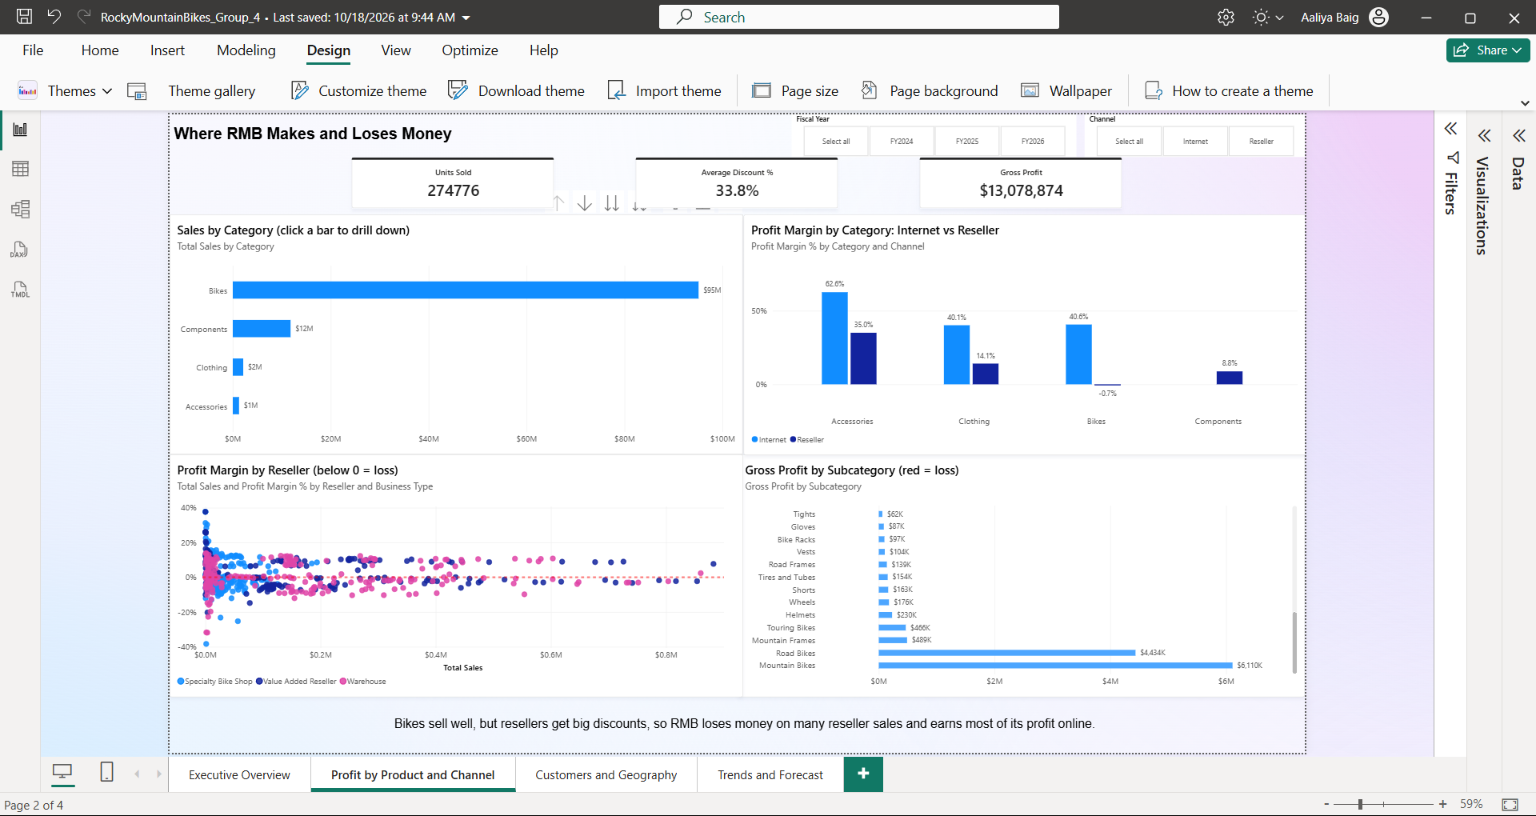

Layout of this report page (visuals, bound fields, positions):
{"tool":"powerbi","page":{"name":"Profit by Product and Channel","canvas":[1920,1080],"ordinal":1},"visuals":[{"type":"slicer","fields":{"Values":["Dates.Fiscal Year"]},"box":[1051.4,0,481.4,72.4],"z":0},{"type":"slicer","fields":{"Values":["Sales.Channel"]},"box":[1547.2,0,372.8,72.4],"z":1000},{"type":"clusteredBarChart","title":"Sales by Category (click a bar to drill down)","fields":{"Category":["Products.Product Hierarchy.Category","Products.Product Hierarchy.Subcategory","Products.Product Hierarchy.Model","Products.Product Hierarchy.Product"],"Y":["_Measures.Total Sales"]},"box":[0,168.3,970,407.2],"z":2000},{"type":"clusteredBarChart","title":"Gross Profit by Subcategory (red = loss)","fields":{"Category":["Products.Subcategory"],"Y":["_Measures.Gross Profit"]},"box":[960.9,575.5,959.1,410.8],"z":3000},{"type":"cardVisual","fields":{"Data":["_Measures.Units Sold"]},"box":[307.6,72.4,342,86.9],"z":4000},{"type":"cardVisual","fields":{"Data":["_Measures.Average Discount %"]},"box":[787.2,72.4,342,86.9],"z":5000},{"type":"cardVisual","fields":{"Data":["_Measures.Gross Profit"]},"box":[1268.6,72.4,342,86.9],"z":6000},{"type":"textbox","box":[211.7,1000.7,1521.9,65.1],"z":7000},{"type":"textbox","box":[0,0,514.6,59.7],"z":8000},{"type":"clusteredColumnChart","title":"Profit Margin by Category: Internet vs Reseller","fields":{"Category":["Products.Category"],"Series":["Sales.Channel"],"Y":["_Measures.Profit Margin %"]},"box":[970,168.3,950.1,407.2],"z":9000},{"type":"scatterChart","title":"Profit Margin by Reseller (below 0 = loss)","fields":{"Category":["Resellers.Reseller"],"Series":["Resellers.Business Type"],"X":["_Measures.Total Sales"],"Y":["_Measures.Profit Margin %"]},"box":[0,575.5,970,410.8],"z":10000}]}

Visuals, with their boxes on the page's 1920x1080 design canvas (x1, y1, x2, y2). These are canvas units, not pixel positions in the 1536x816 screenshot, which may show the page scaled, cropped or inside an application window:
slicer - Dates.Fiscal Year: 1051 0 1533 72
slicer - Sales.Channel: 1547 0 1920 72
"Sales by Category (click a bar to drill down)" clusteredBarChart: 0 168 970 576
"Gross Profit by Subcategory (red = loss)" clusteredBarChart: 961 576 1920 986
cardVisual - _Measures.Units Sold: 308 72 650 159
cardVisual - _Measures.Average Discount %: 787 72 1129 159
cardVisual - _Measures.Gross Profit: 1269 72 1611 159
textbox: 212 1001 1734 1066
textbox: 0 0 515 60
"Profit Margin by Category: Internet vs Reseller" clusteredColumnChart: 970 168 1920 576
"Profit Margin by Reseller (below 0 = loss)" scatterChart: 0 576 970 986
